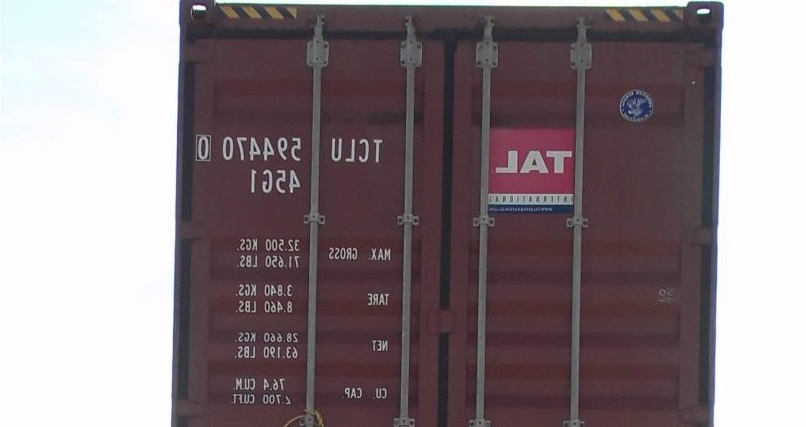container_door: (177, 5, 714, 427)
